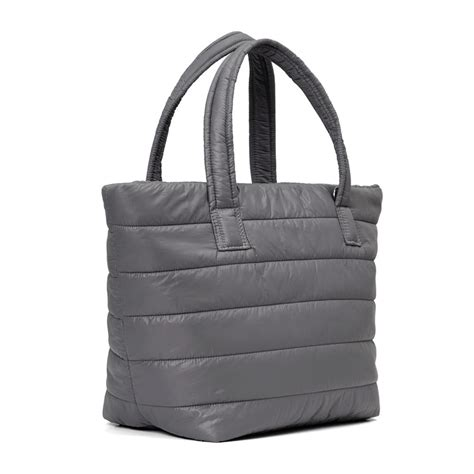nylon: (100, 176, 383, 441)
